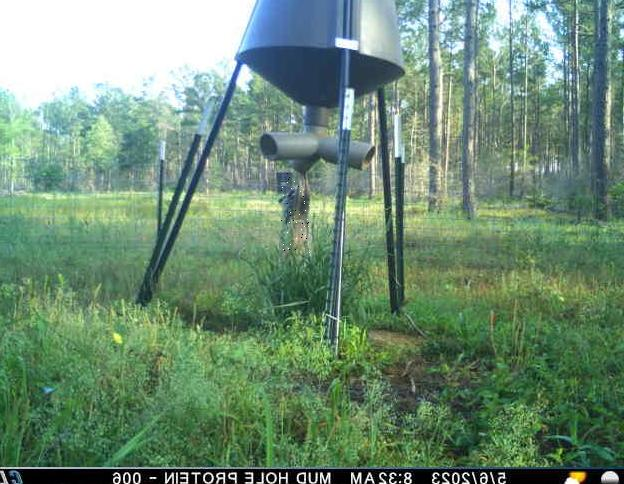Raccoon: (280, 173, 311, 253)
